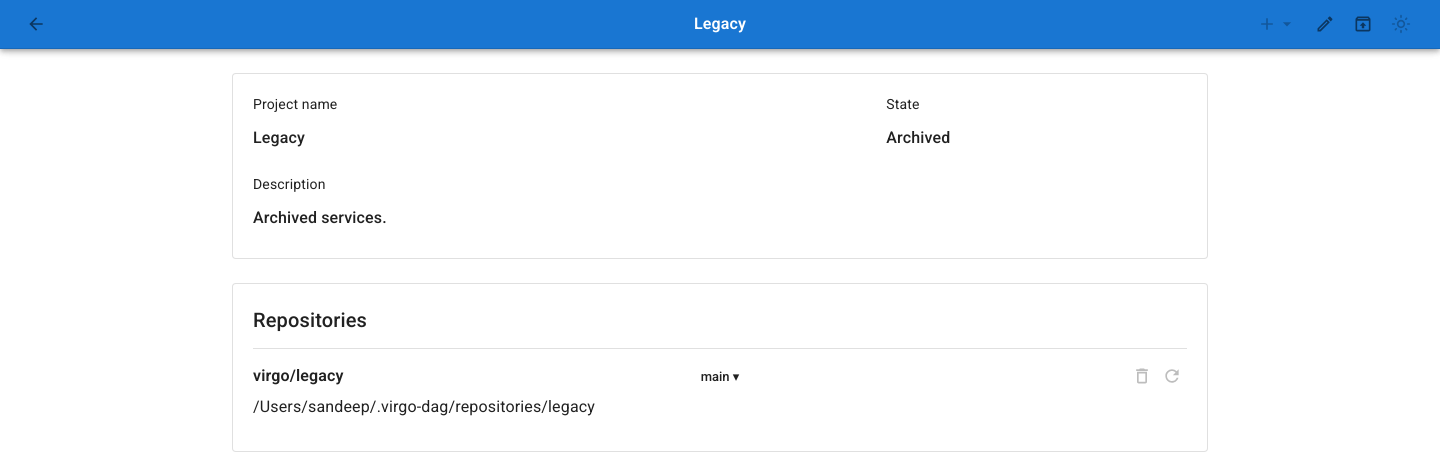
ProjectDetailsScreen toggles repository access with archive and unarchive actions
The image size is (1440, 469).
Expected: the button named "Remove from project" is disabled, [1127, 361, 1157, 391]
Expected: the button named "Re-fetch repository" is disabled, [1157, 361, 1187, 391]
Click the button named "Unarchive project".
click(1363, 24)  # box [1348, 9, 1378, 39]
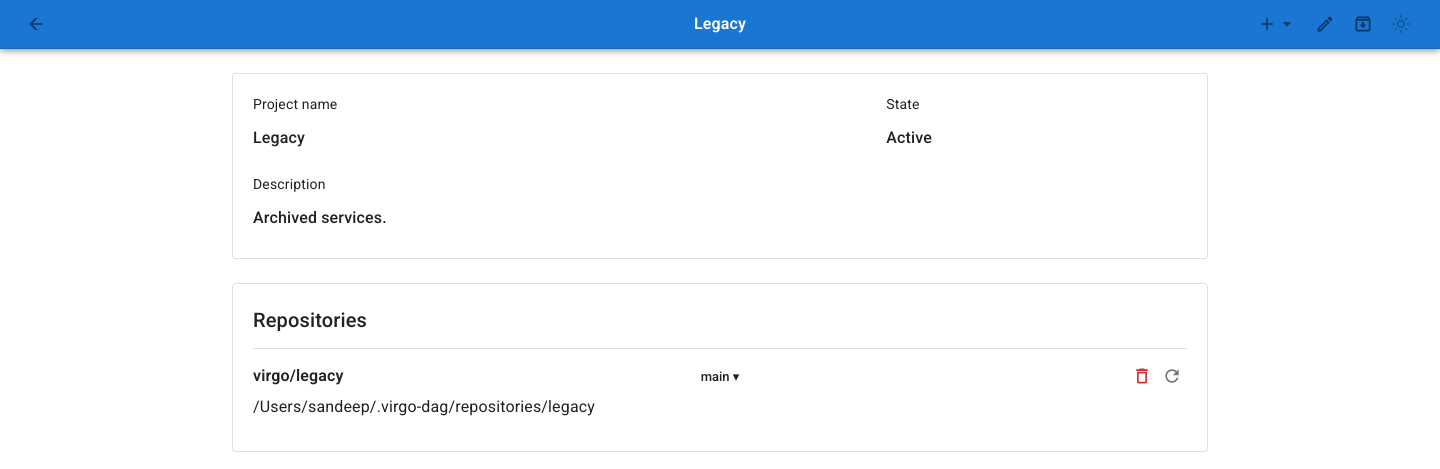
Expected: the text "Active" is shown, [886, 126, 932, 150]
Expected: the button named "Remove from project" is enabled, [1127, 361, 1157, 391]
Click the button named "Archive project".
click(1363, 24)  # box [1348, 9, 1378, 39]
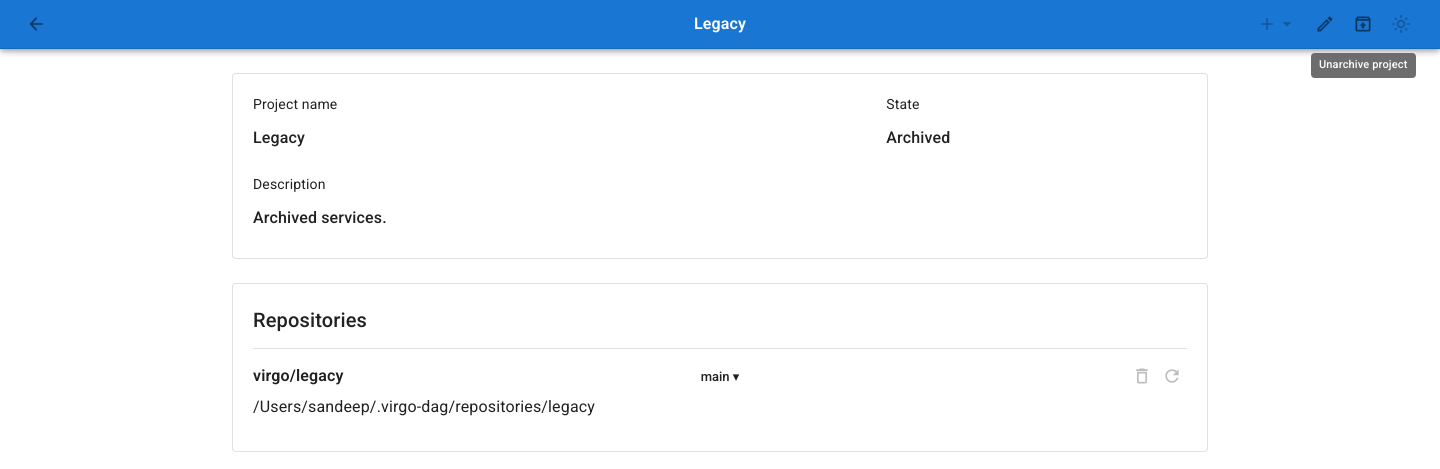
Expected: the text "Archived" is shown, [886, 126, 950, 150]
Expected: the button named "Remove from project" is disabled, [1127, 361, 1157, 391]
